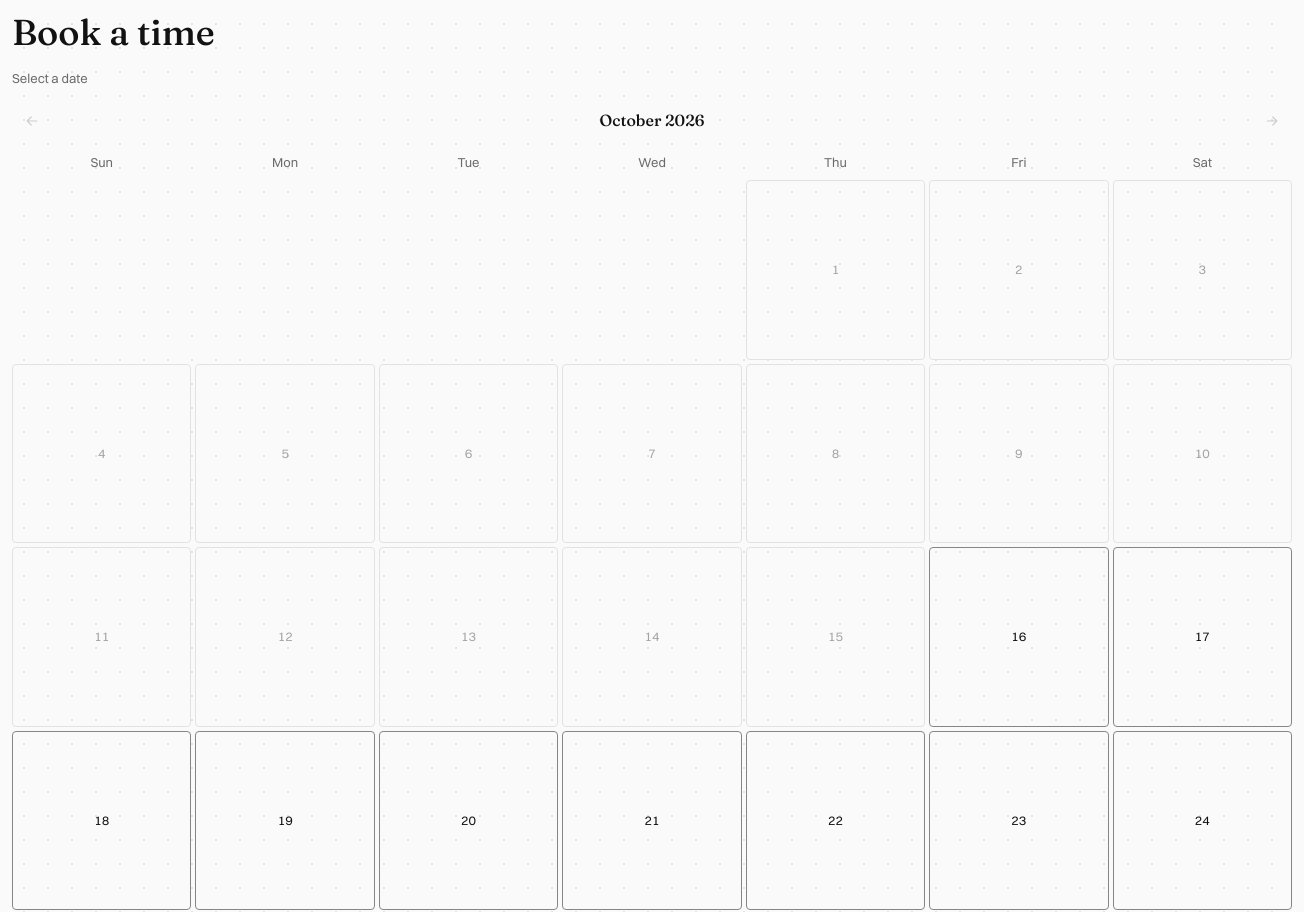
Test: BookingFlow.svelte › advances to the duration step when a bookable date is clicked
Click the button with class "aspect-square" showing "16" at point(1019, 637), box [929,547,1108,727]
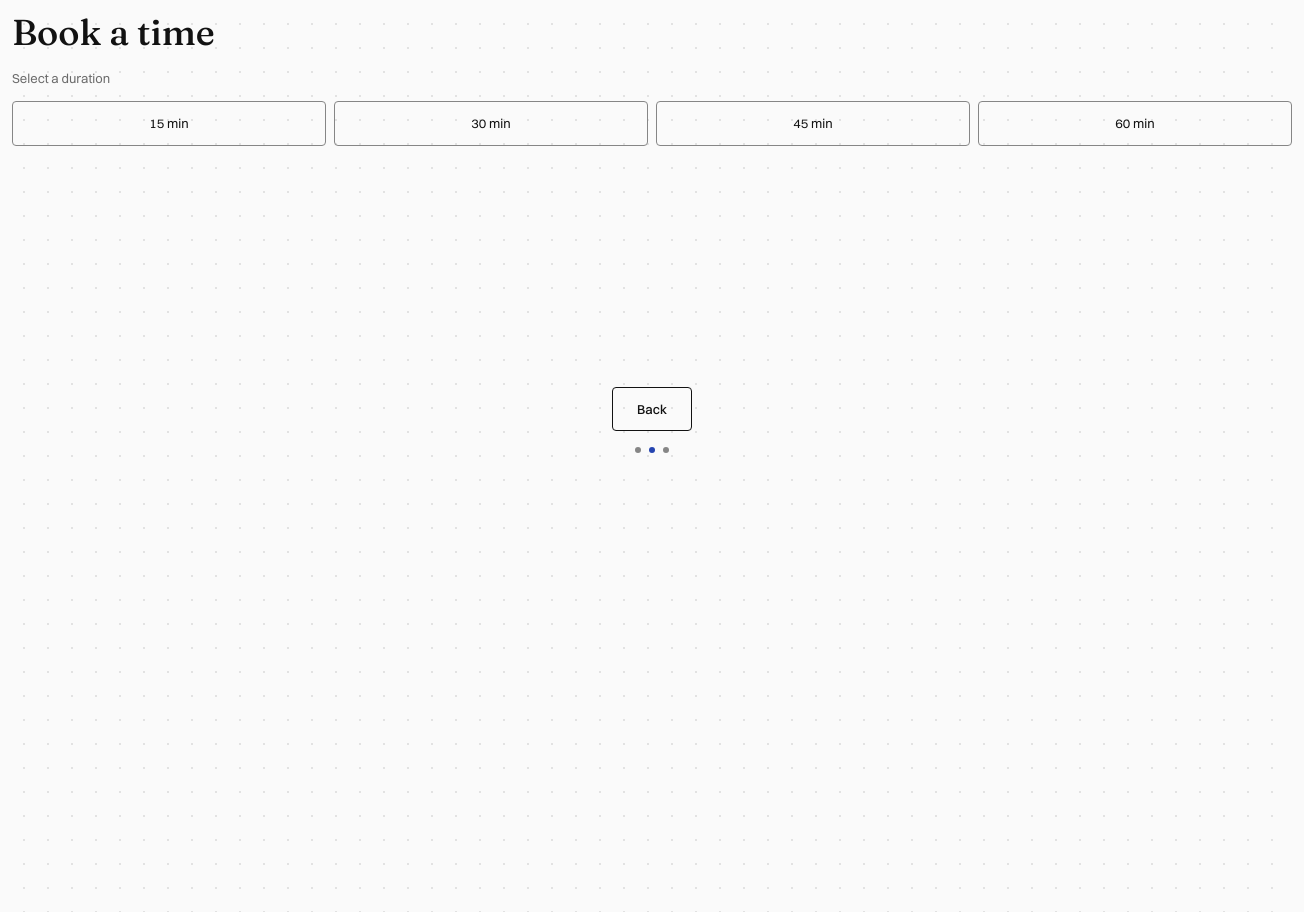
Result: the text "Select a duration" is shown at [12,70,110,86]
